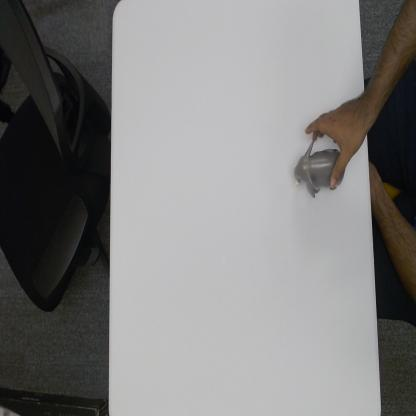Elephant: (293, 138, 345, 199)
Hand: (305, 96, 366, 187)
